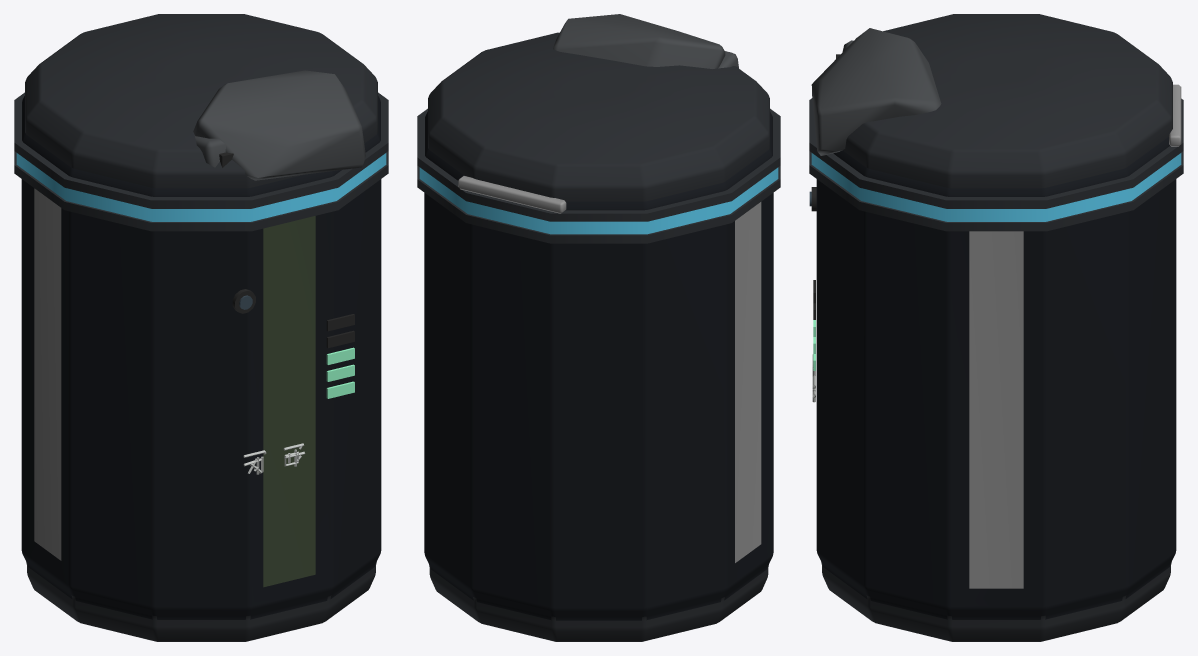
File: TrashBin.fbx
3 views of the same model, side by side, from view 1: azimuth 30°, elevation 25°; view 2: azimuth 150°, elevation 25°; view 3: azimuth 270°, elevation 25° (orthographic). The views are drawn at different scales.
Parts seen in each view (by area): view 1: TrashBin_LOD0; view 2: TrashBin_LOD0; view 3: TrashBin_LOD0.
Boxes of the visible parts, left/top/right/bottom form: TrashBin_LOD0: left=14, top=14, right=388, bottom=641; TrashBin_LOD0: left=417, top=14, right=780, bottom=641; TrashBin_LOD0: left=809, top=14, right=1183, bottom=641.
Size of what is drawn, in the model's own units: 0.6018 by 0.9328 by 0.6018.
